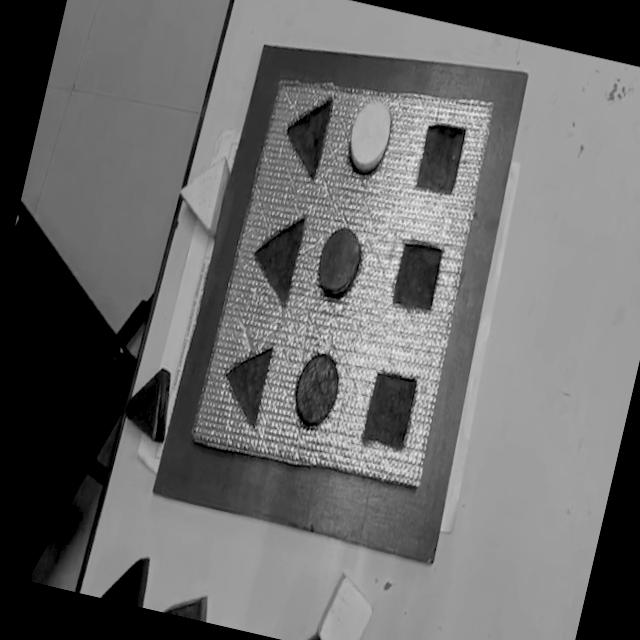bcircle: (288, 348, 346, 432)
btriangle: (98, 548, 154, 606)
mtcube: (358, 366, 422, 453), (388, 235, 448, 315), (412, 118, 469, 200)
mttriangle: (243, 205, 308, 308), (275, 85, 336, 184), (215, 336, 277, 428)
rcircle: (312, 220, 368, 302)
rcube: (160, 586, 212, 620)
rtriangle: (119, 360, 180, 444)
wb: (188, 52, 507, 500)
ycircle: (341, 94, 398, 178)
ycube: (314, 570, 380, 640)
ytriangle: (170, 148, 233, 238)
